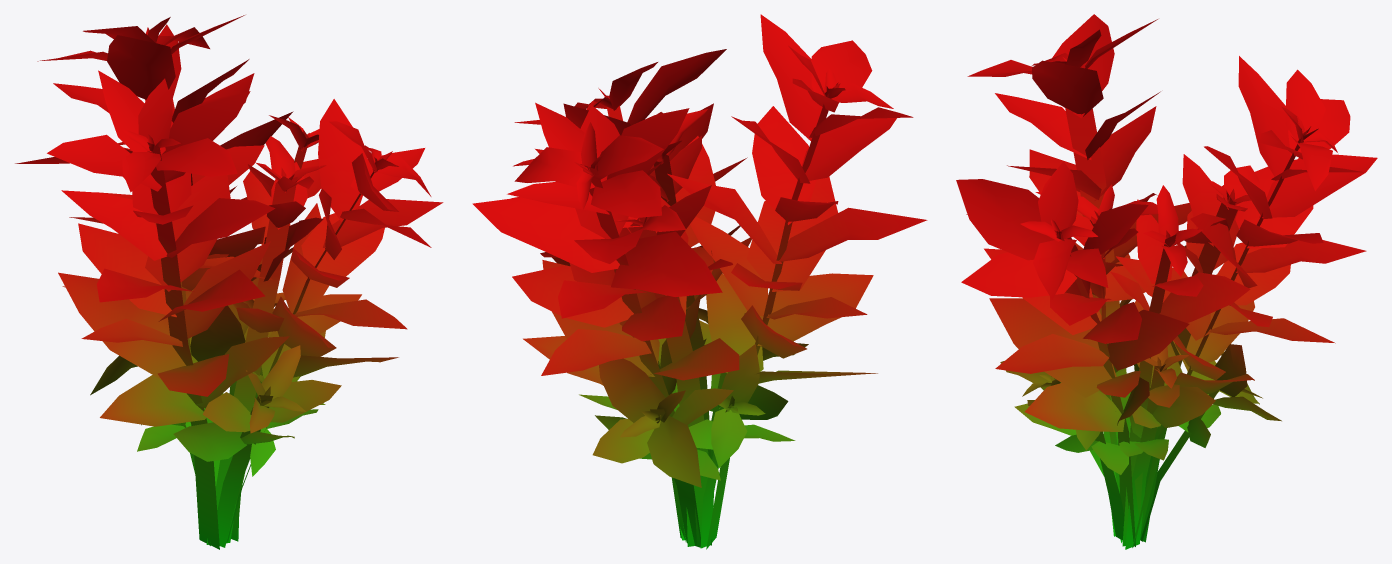
File: Var8_LOD4.fbx
3 views of the same model, side by side, from view 1: azimuth 30°, elevation 25°; view 2: azimuth 150°, elevation 25°; view 3: azimuth 270°, elevation 25° (orthographic). The views are drawn at different scales.
Parts seen in each view (by area): view 1: _dvx9_Var8_LOD4; view 2: _dvx9_Var8_LOD4; view 3: _dvx9_Var8_LOD4.
Boxes of the visible parts, <box> form: _dvx9_Var8_LOD4: <box>15,15,443,549</box>; _dvx9_Var8_LOD4: <box>472,14,927,549</box>; _dvx9_Var8_LOD4: <box>956,14,1377,549</box>.
Bounding box in the file's own units: 23.55 × 28.85 × 22.95.
